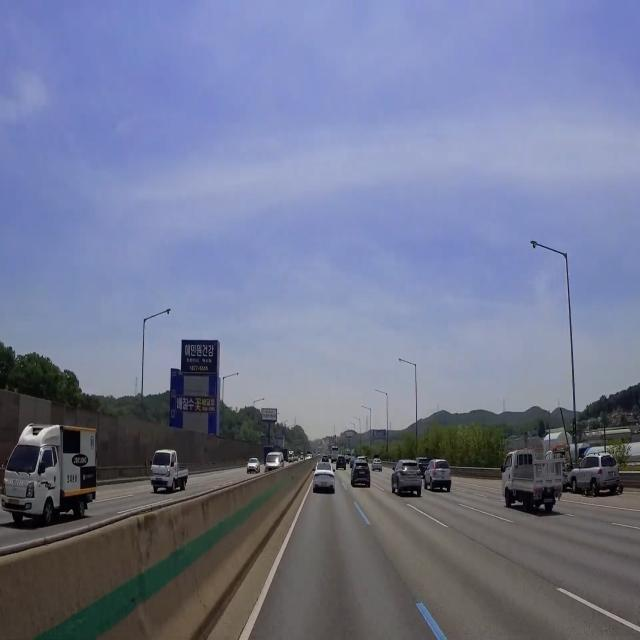car: (7, 495, 24, 511), (543, 495, 558, 509), (407, 472, 420, 485), (357, 471, 370, 482), (154, 477, 168, 485), (319, 481, 328, 492)
